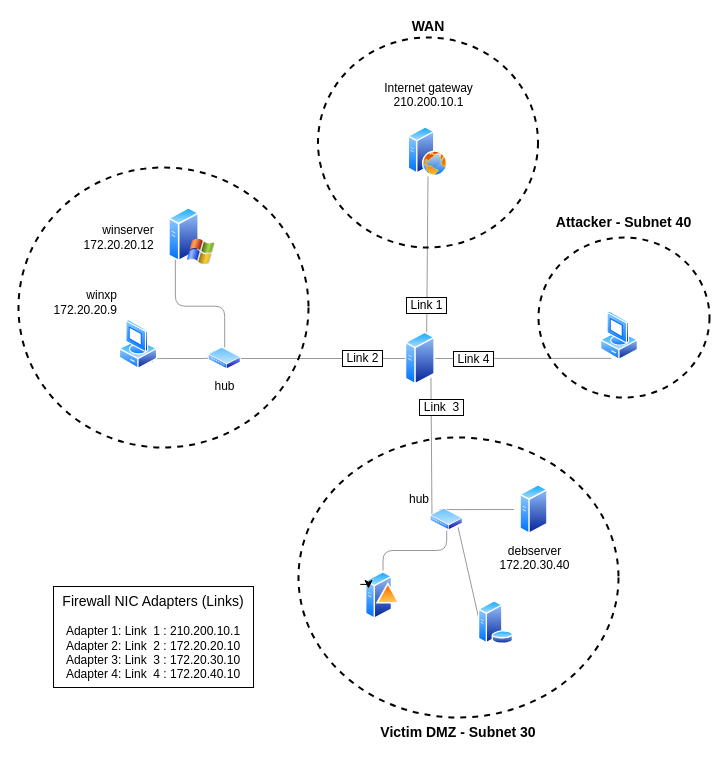
The diagram is 727 pixels wide and 758 high, and some of its shapes have lost their labels. The shapes that lost their labels are listed below. From the top down, each one's box as (x1, y1, x2, y2) in pixels, then its label:
(17, 166, 309, 448): Victim LAN - Subnet 20
(600, 310, 638, 360): kali 172.20.40.40
(405, 331, 435, 385): pfSense firewall
(365, 570, 400, 620): meta 172.20.30.30
(478, 597, 513, 647): owasp 172.20.30.80
